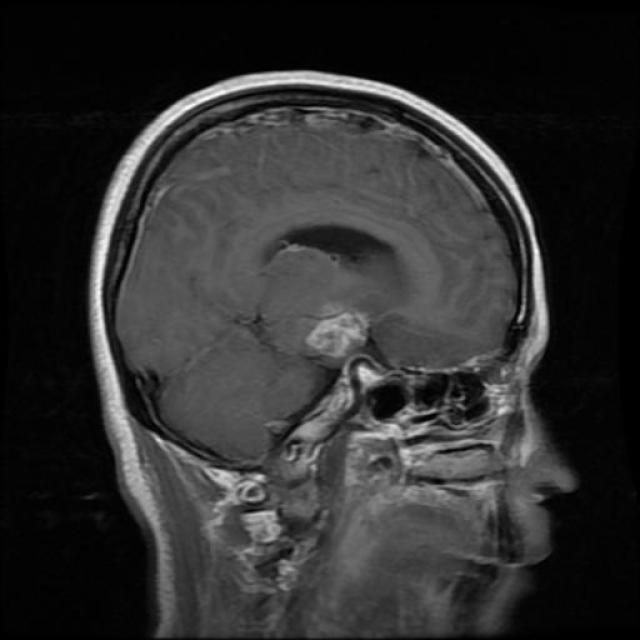glioma: (298, 302, 388, 362)
